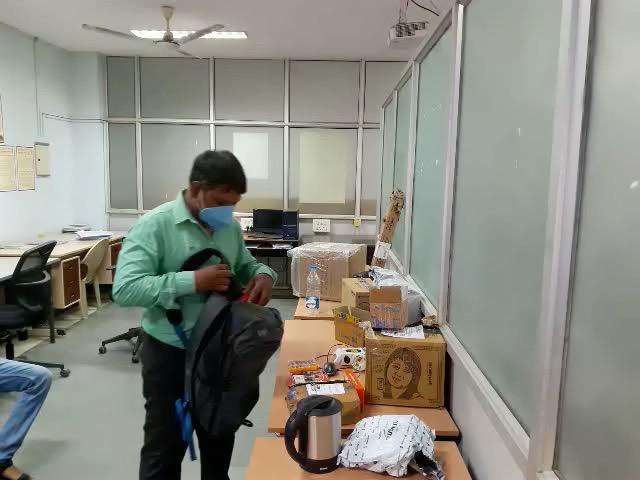shoplifting: (85, 234, 352, 451)
